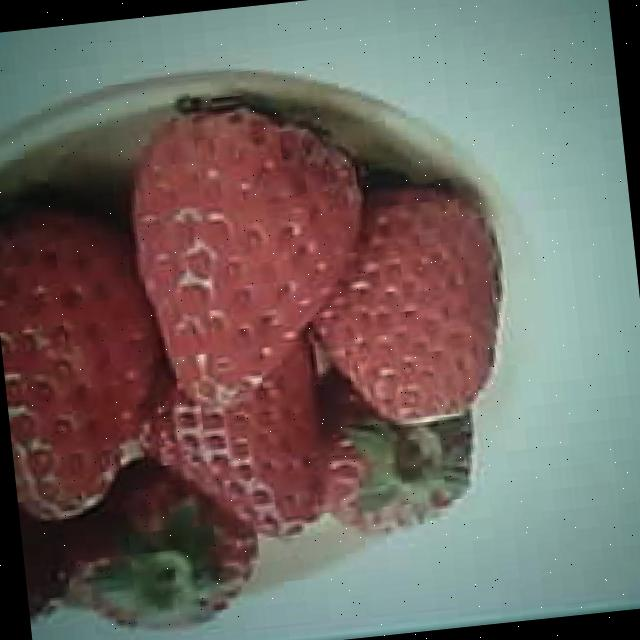strawberry: (125, 92, 382, 410), (300, 176, 518, 428), (0, 201, 171, 521)
